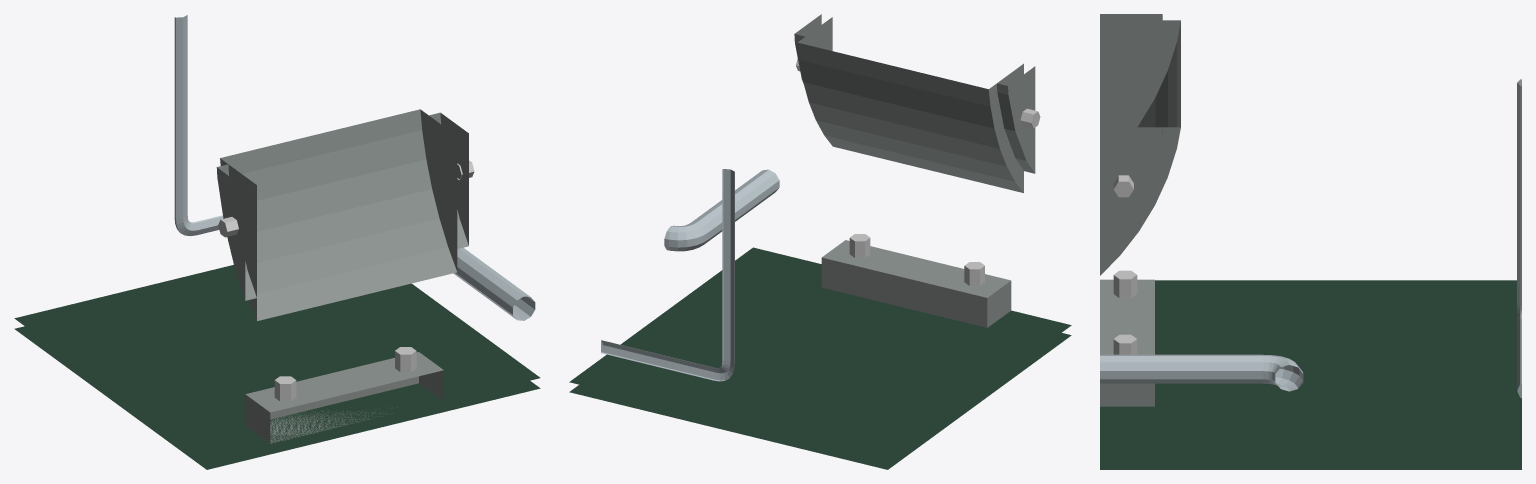
The model's file is cell_6.obj.
The picture shows the model from 3 angles, left to right: view 1: azimuth 30°, elevation 25°; view 2: azimuth 150°, elevation 25°; view 3: azimuth 270°, elevation 25°; orthographic projection. The views are drawn at different scales.
Bounding box in the file's own units: 1 × 0.78 × 1.
